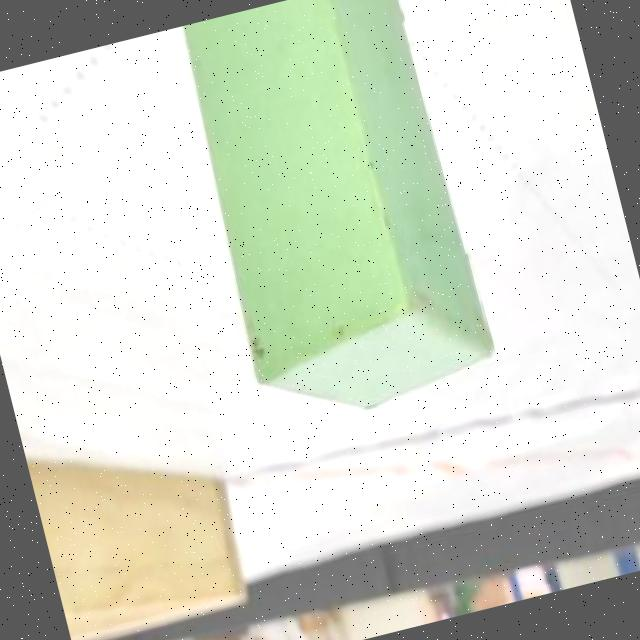greenbox: (160, 0, 508, 441)
